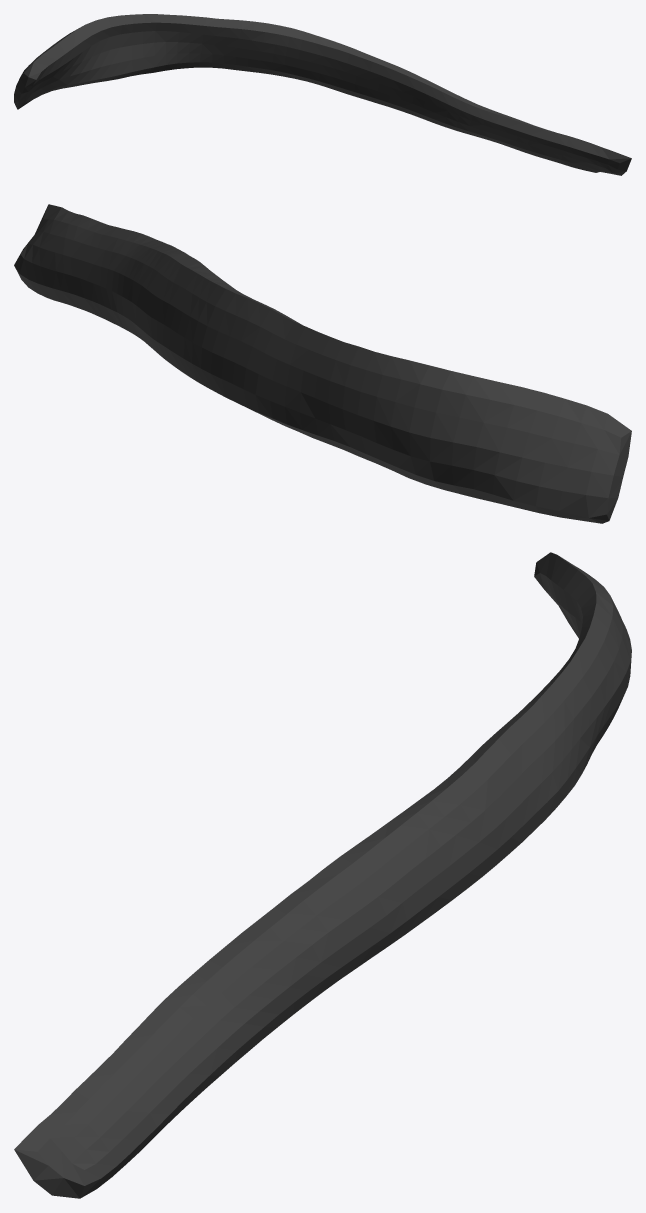
Rendered from parietoauricularis.glb.
3 renders of one model, top to bottom at view 1: azimuth 30°, elevation 25°; view 2: azimuth 150°, elevation 25°; view 3: azimuth 270°, elevation 25°, orthographic. The views are drawn at different scales.
Parts seen in each view (by area): view 1: parietoauricularis; view 2: parietoauricularis; view 3: parietoauricularis.
Boxes of the visible parts, left/top/right/bottom form: parietoauricularis: left=14, top=14, right=631, bottom=175; parietoauricularis: left=14, top=204, right=631, bottom=523; parietoauricularis: left=14, top=552, right=631, bottom=1198.
Bounding box in the file's own units: 0.7022 × 0.2075 × 0.4365.
1 material, 1 textured.
